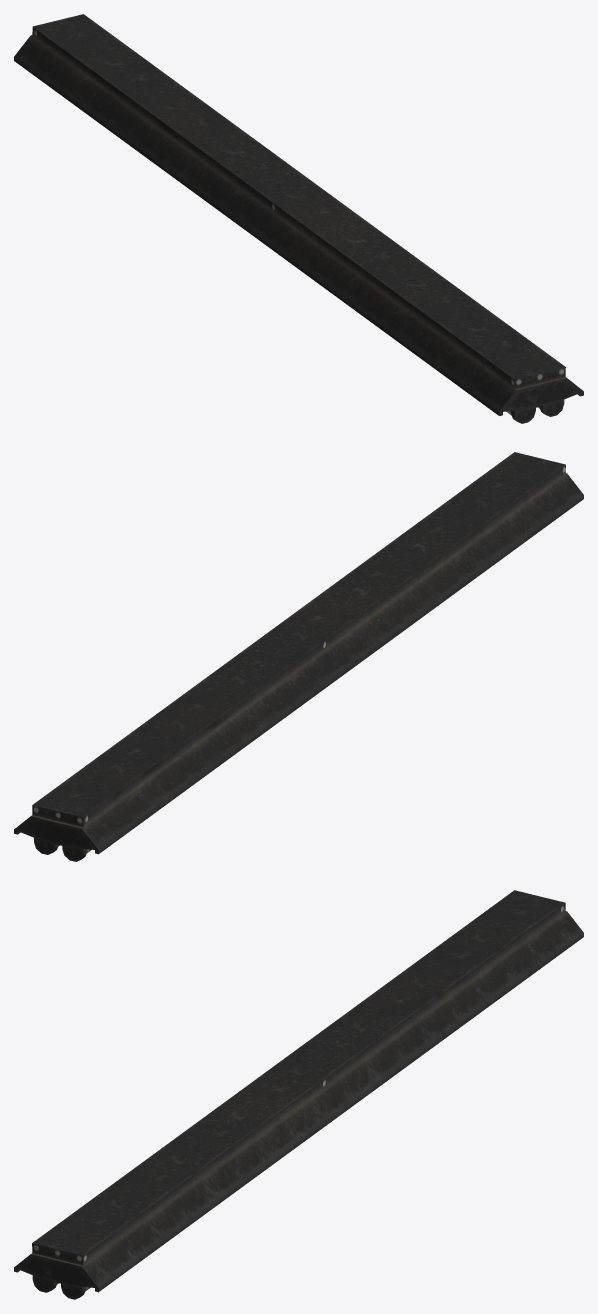
The model's file is SM_Fluorescent_Light_01a.fbx.
The picture shows the model from 3 angles, top to bottom: view 1: azimuth 30°, elevation 25°; view 2: azimuth 150°, elevation 25°; view 3: azimuth 330°, elevation 25°; orthographic projection.
Parts seen in each view (by area): view 1: SM_Fluorescent_Light_01a_LOD0; view 2: SM_Fluorescent_Light_01a_LOD0; view 3: SM_Fluorescent_Light_01a_LOD0.
Part boxes in pixels (x1,y1,x2,y2): SM_Fluorescent_Light_01a_LOD0: [14, 14, 583, 423]; SM_Fluorescent_Light_01a_LOD0: [14, 452, 583, 861]; SM_Fluorescent_Light_01a_LOD0: [14, 890, 583, 1299].
Size of the model in its own units: 15.79 by 157 by 8.29.
1 material, 1 textured.
